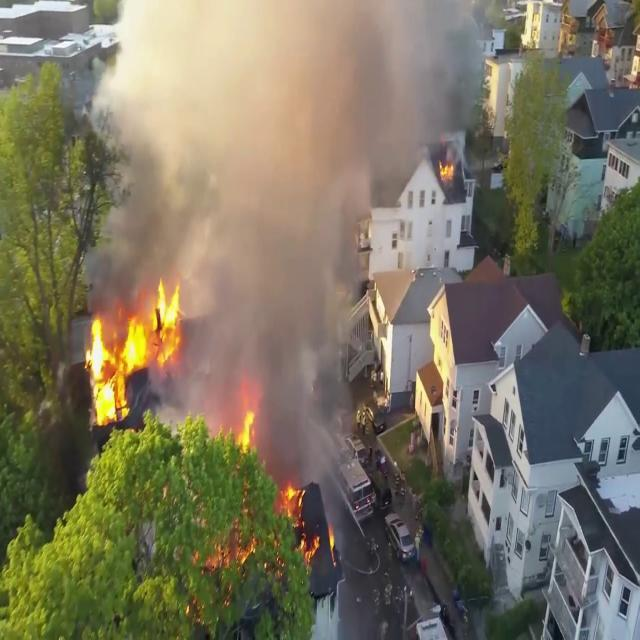Fire: (83, 274, 185, 424), (148, 391, 260, 461), (435, 152, 457, 186)
Smoke: (52, 0, 504, 359)
